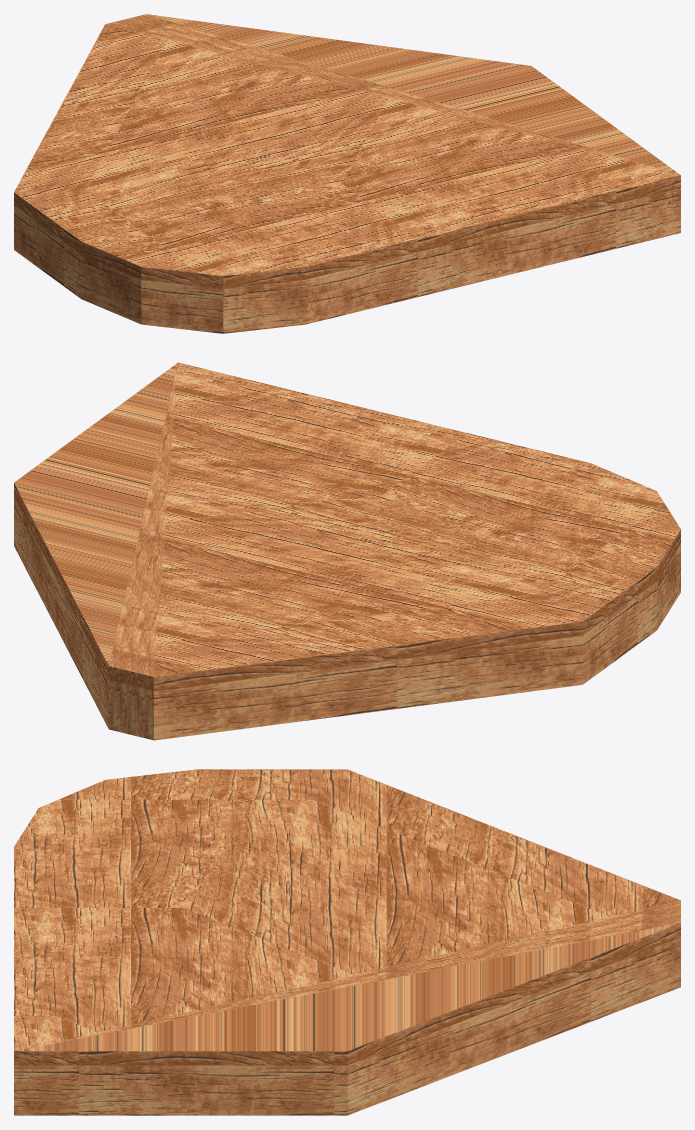
Rendered from detail_three.fbx.
The picture shows the model from 3 angles, top to bottom: view 1: azimuth 30°, elevation 25°; view 2: azimuth 150°, elevation 25°; view 3: azimuth 270°, elevation 25°; orthographic projection. The views are drawn at different scales.
Parts seen in each view (by area): view 1: detail; view 2: detail; view 3: detail.
Part boxes in pixels (left/top/right/bottom): detail: left=14, top=14, right=680, bottom=333; detail: left=14, top=362, right=680, bottom=740; detail: left=14, top=769, right=680, bottom=1115.
Size of the model in its own units: 24.19 by 2.57 by 24.19.
